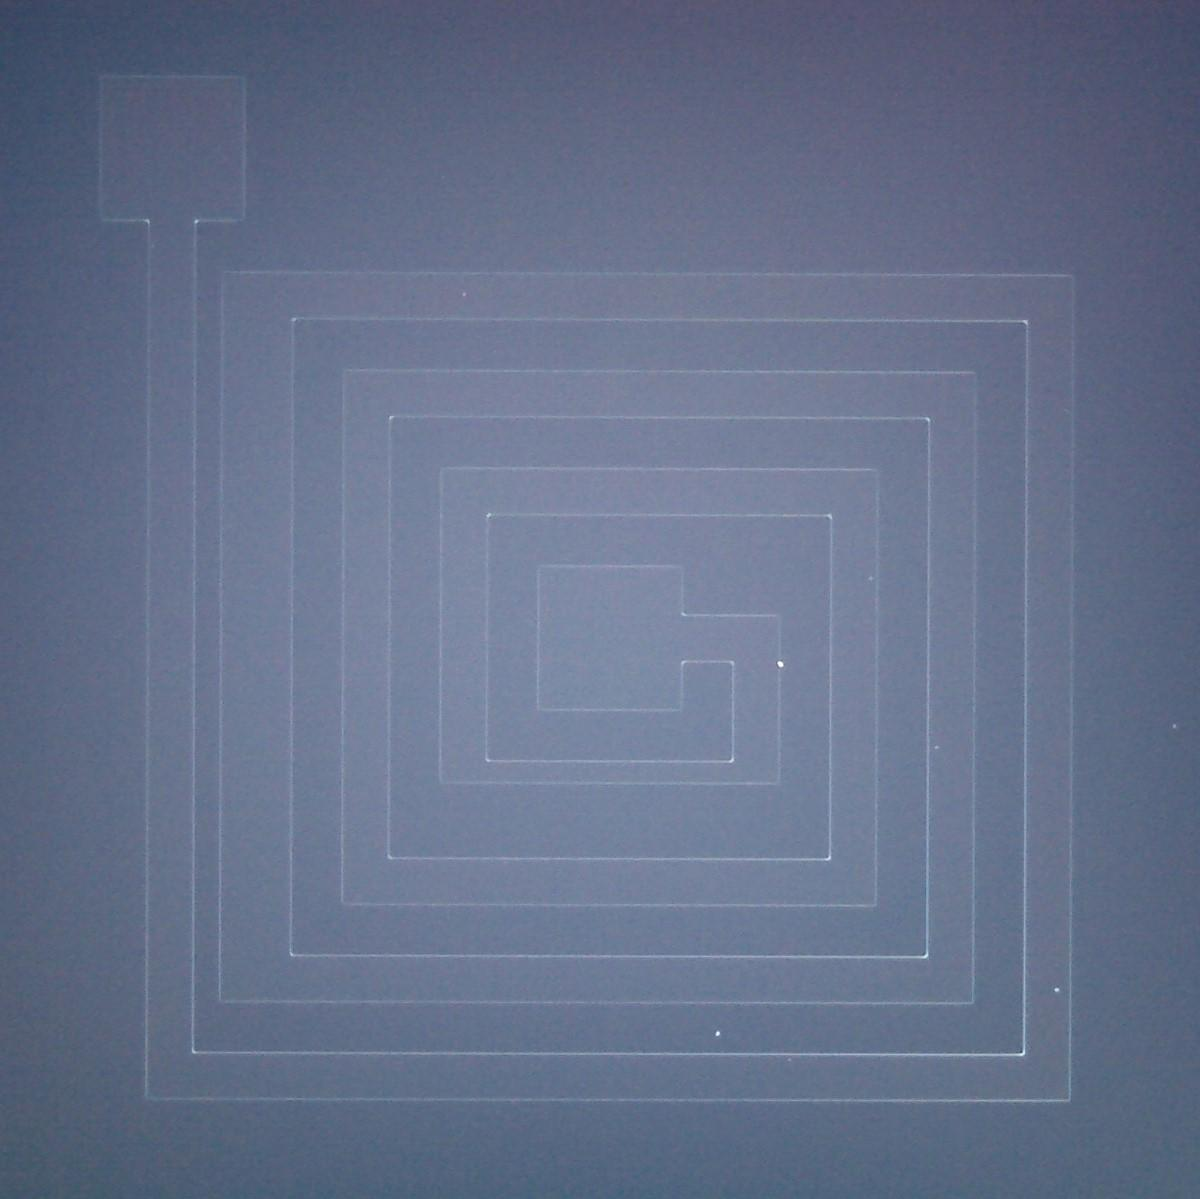B_point: (770, 654, 790, 675)
s_point: (706, 1023, 730, 1044), (859, 569, 882, 589), (778, 1050, 800, 1069), (456, 284, 474, 304), (1046, 981, 1067, 998), (1165, 717, 1184, 735), (928, 738, 944, 757)
width: (89, 254, 418, 1030), (419, 639, 809, 930)
